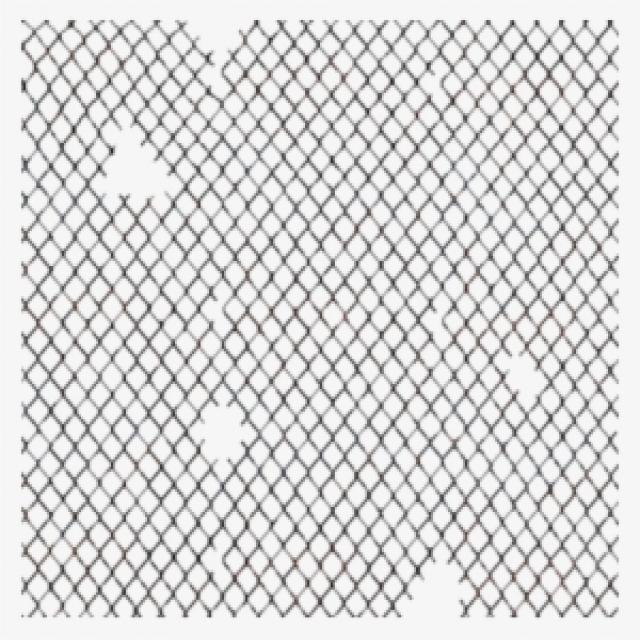fence line: (485, 330, 558, 413), (190, 399, 258, 479), (388, 555, 474, 615), (95, 128, 170, 196), (171, 23, 271, 70)
